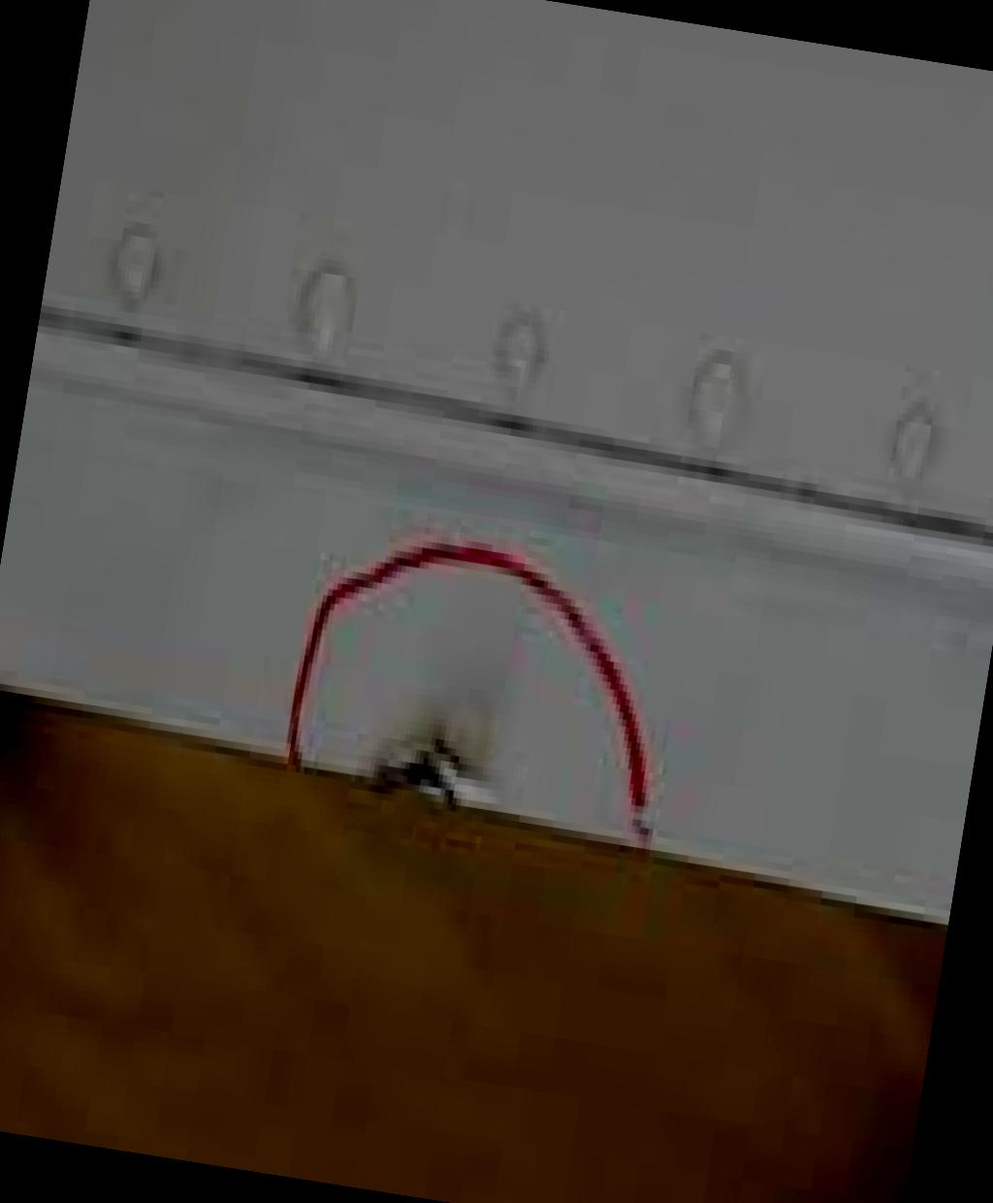crack: (361, 706, 498, 825)
